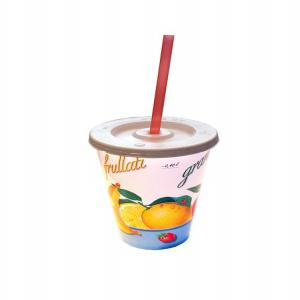Cup: (81, 109, 224, 256)
